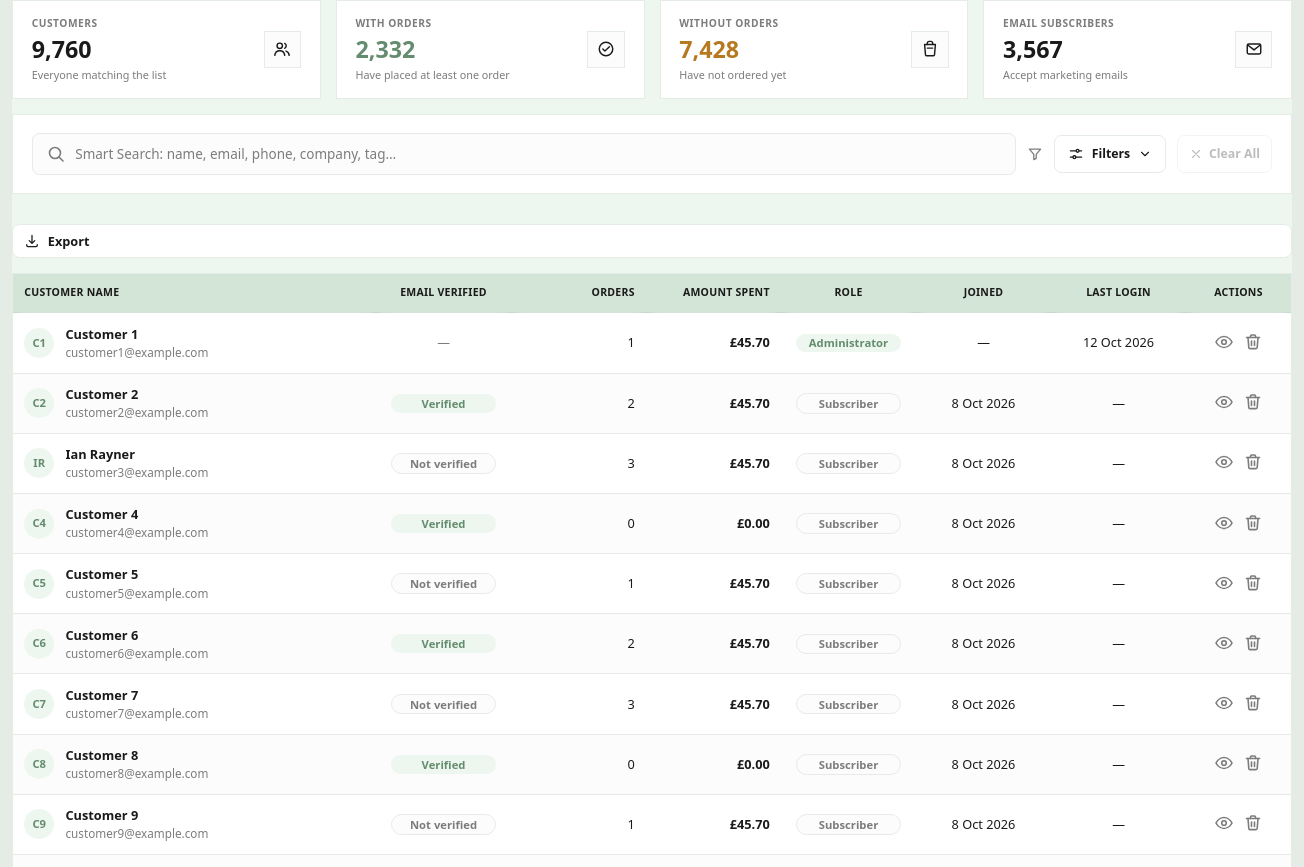
Test: CustomersPage › has no Source filter
Expected: the text "Customer 2" is shown, top-left (66, 385), bottom-right (138, 403)
Step 1. Click the button "Filters" → point(1110, 154), box top-left (1054, 135), bottom-right (1166, 173)
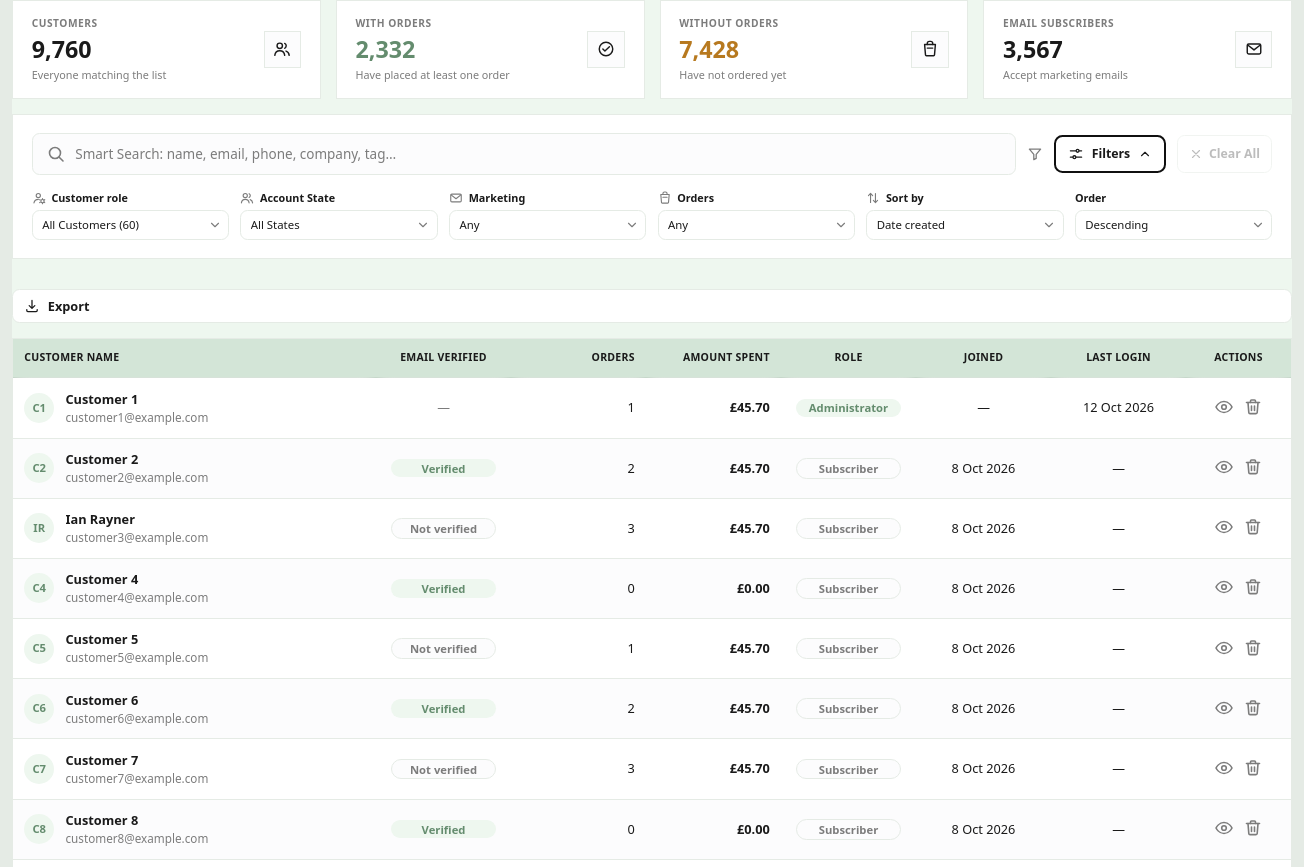
Result: the dropdown labelled "Account State" is shown at top-left (240, 210), bottom-right (438, 240)
